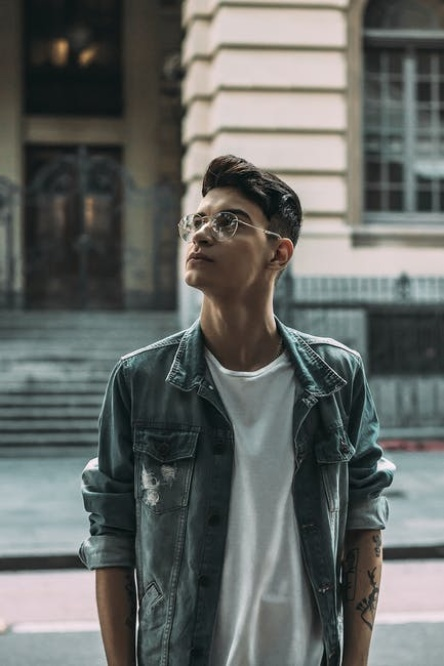face: (184, 188, 265, 291)
